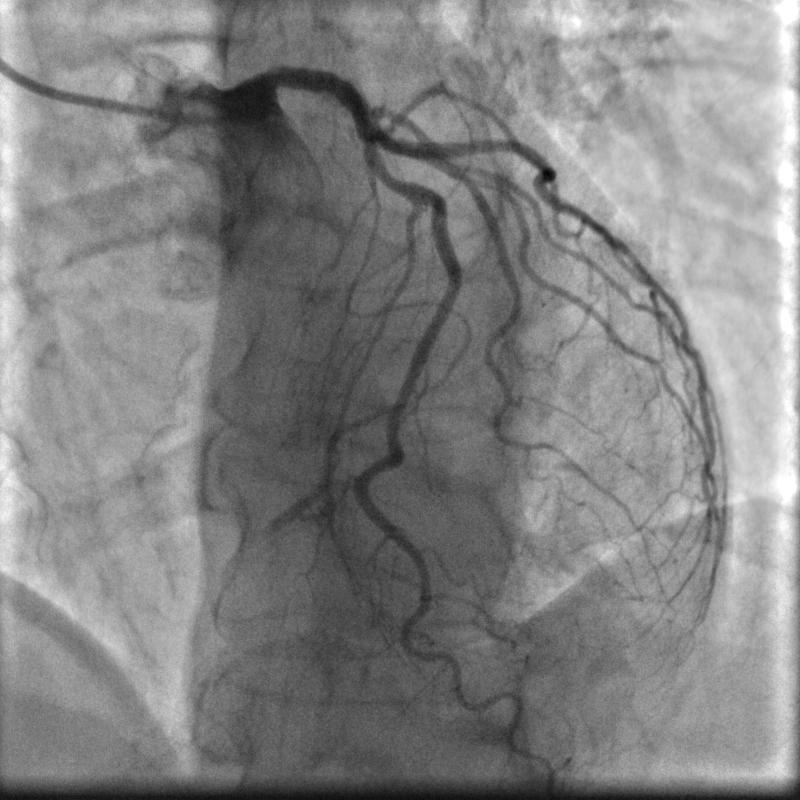Stenosis: (372, 164, 404, 195)
